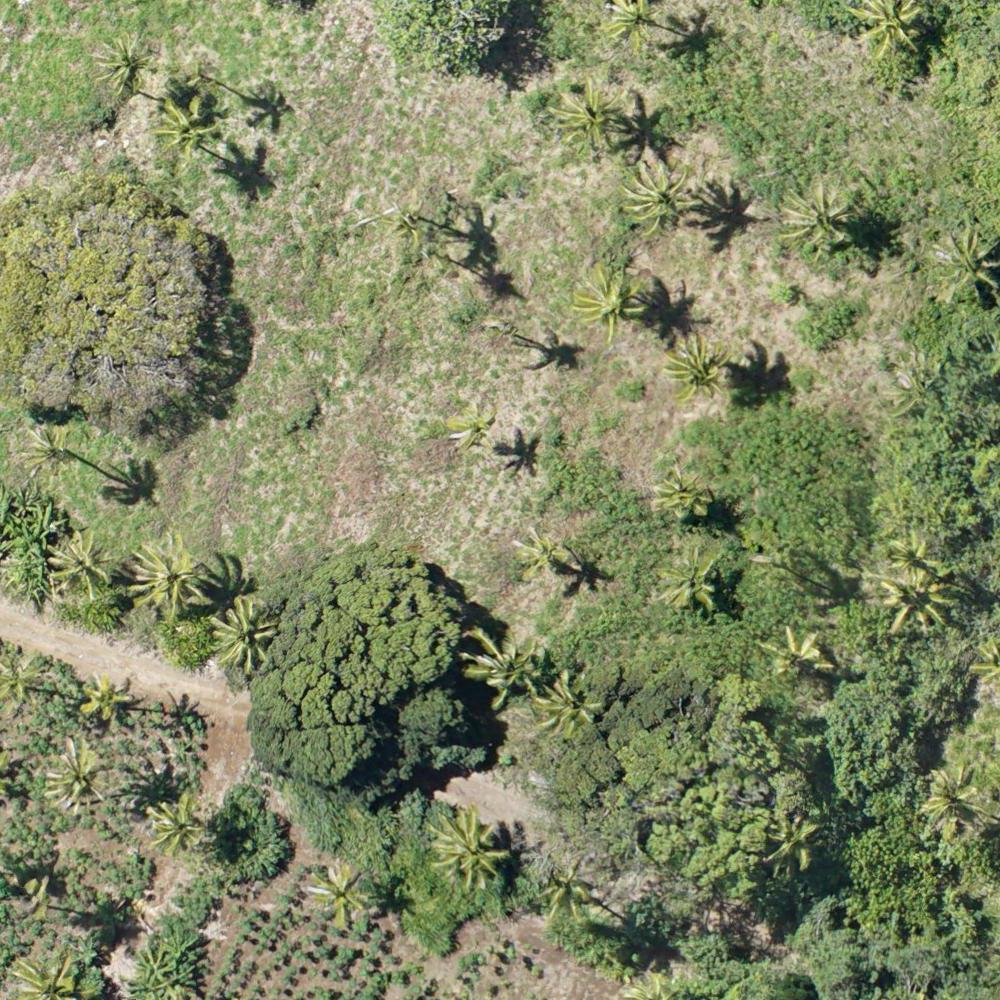Palm: (422, 809, 513, 895), (553, 81, 638, 159), (456, 621, 538, 701), (618, 161, 709, 233), (128, 534, 206, 617), (784, 175, 866, 252), (571, 265, 649, 344), (871, 569, 958, 639), (926, 223, 1000, 295), (45, 534, 116, 609), (38, 739, 105, 814), (205, 598, 275, 669), (849, 1, 928, 61), (534, 861, 602, 929), (142, 788, 208, 858), (664, 341, 731, 408), (758, 622, 830, 683), (658, 549, 724, 615), (923, 769, 991, 833), (305, 862, 372, 926), (152, 98, 220, 159), (96, 30, 157, 93), (539, 677, 602, 738), (21, 418, 80, 483), (514, 527, 573, 583), (655, 462, 713, 518), (79, 671, 136, 727), (604, 1, 663, 54), (445, 404, 498, 451)
